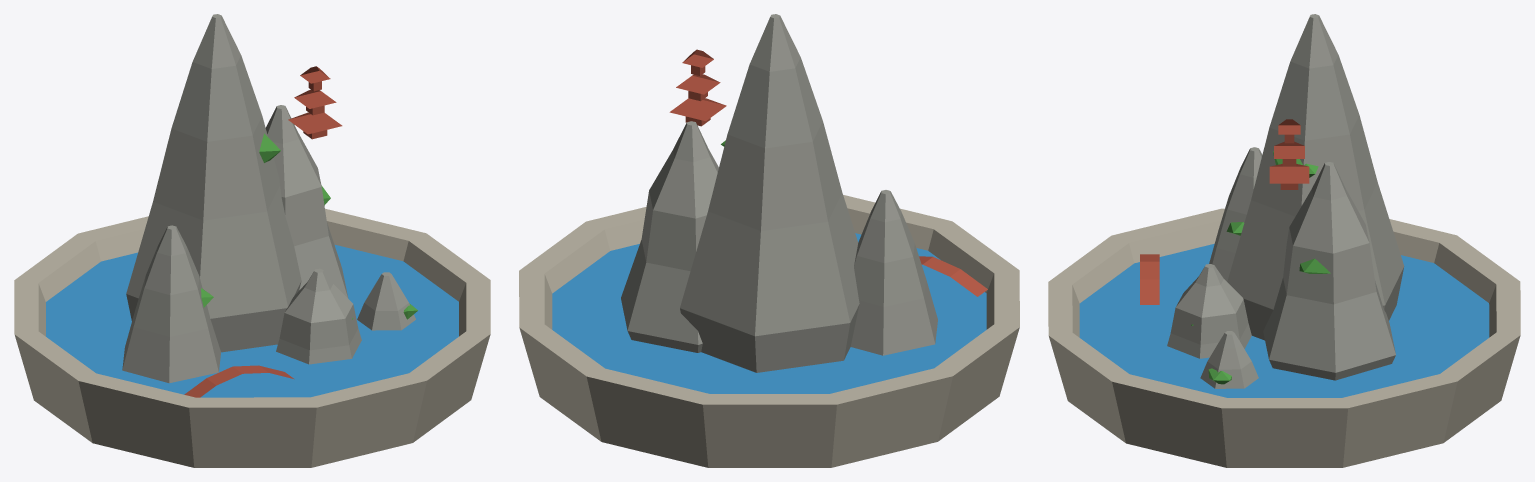
The model's file is viet_rockery.glb.
3 views of the same model, side by side, from view 1: azimuth 30°, elevation 25°; view 2: azimuth 150°, elevation 25°; view 3: azimuth 270°, elevation 25° (orthographic). The views are drawn at different scales.
Visible parts, largest first — view 1: viet_rockery; view 2: viet_rockery; view 3: viet_rockery.
Boxes of the visible parts, x1,y1,x2,y2 form: viet_rockery: [14, 14, 490, 467]; viet_rockery: [519, 14, 1019, 467]; viet_rockery: [1048, 14, 1520, 467].
Size of the model in its own units: 1 by 0.8183 by 1.
